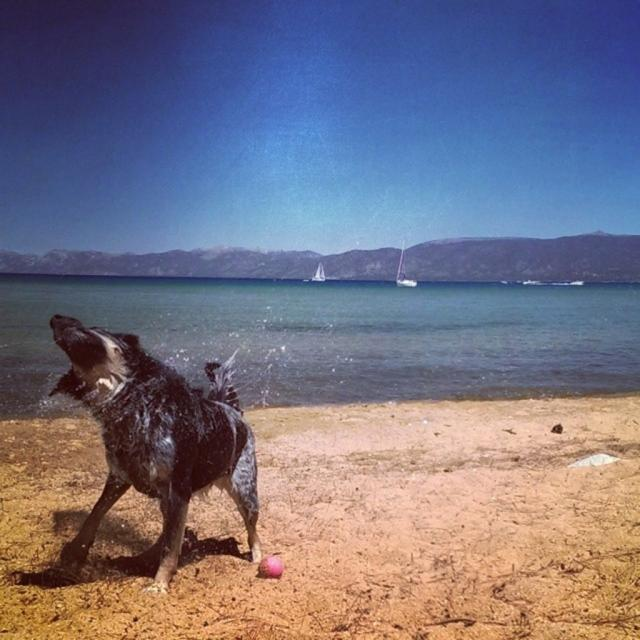Dog: (46, 312, 263, 594)
